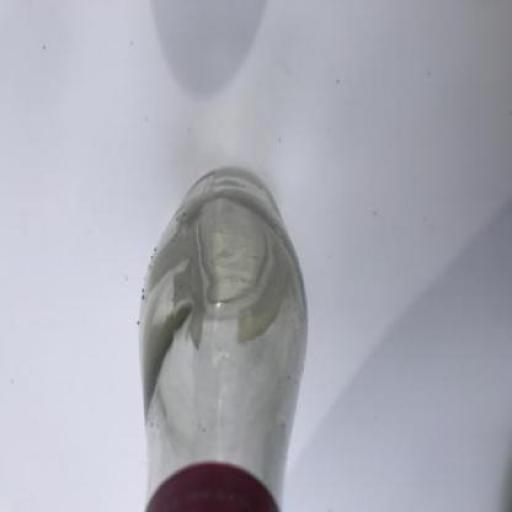glass: (138, 172, 308, 511)
